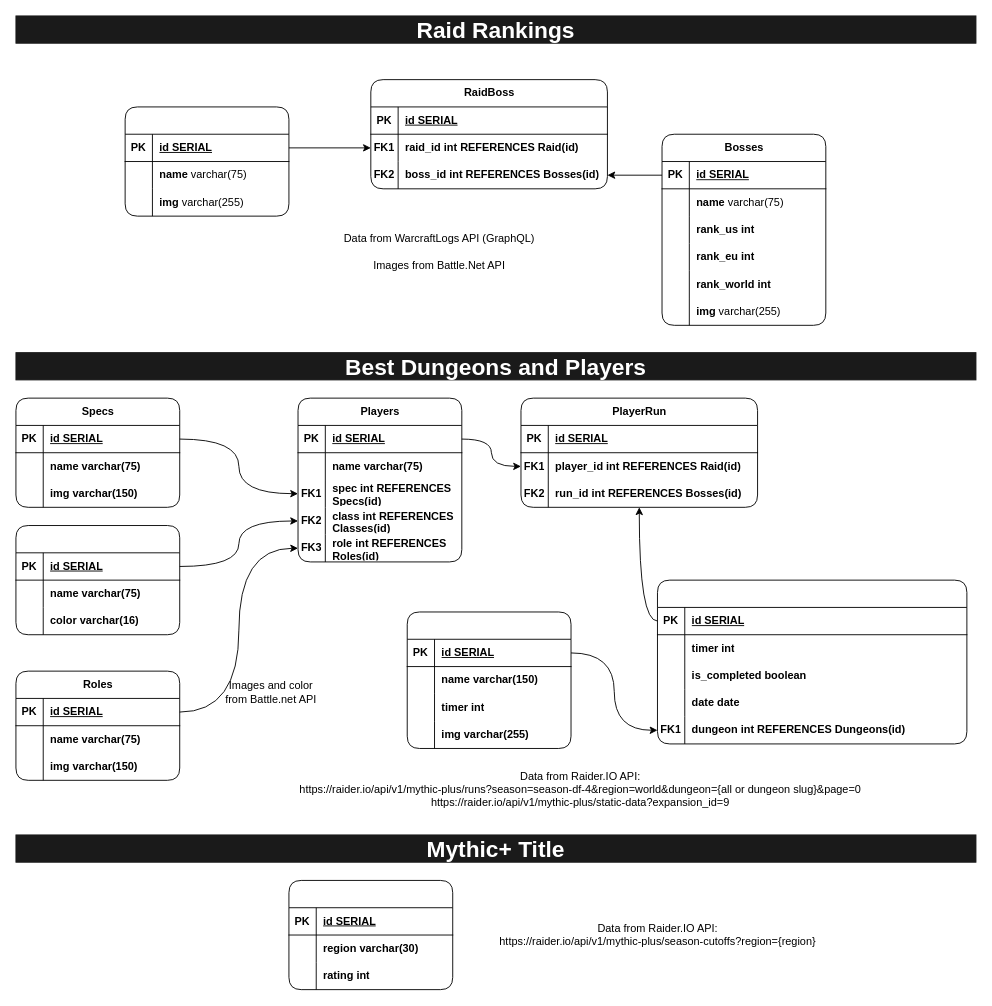
Image size: 992x1006. Some labels were removed from this diagram. The shapes that lost their labels are listed below. From the top down, each one's box as (x1, y1, x2, y2) in pixels, then its label:
(124, 106, 289, 216): Raids
(15, 525, 180, 635): Classes
(406, 611, 571, 748): Dungeons
(657, 579, 967, 744): Runs
(288, 880, 453, 990): Title
